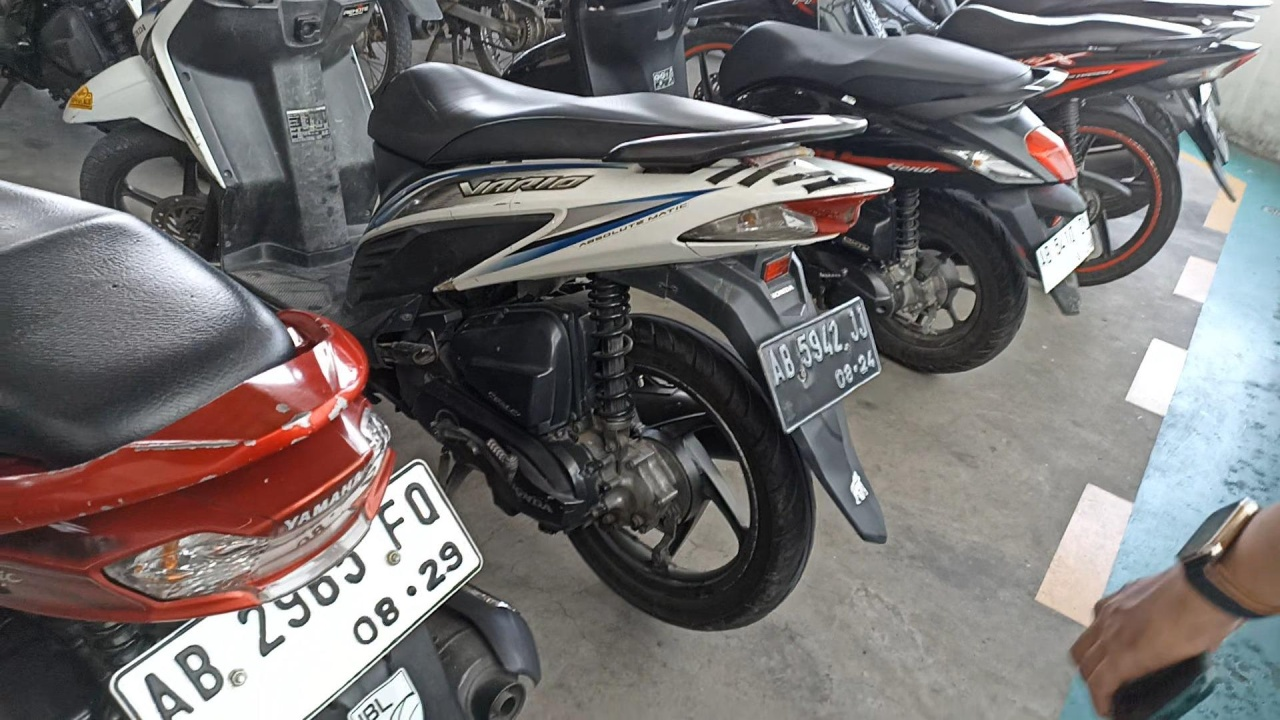plate: (758, 297, 884, 433)
